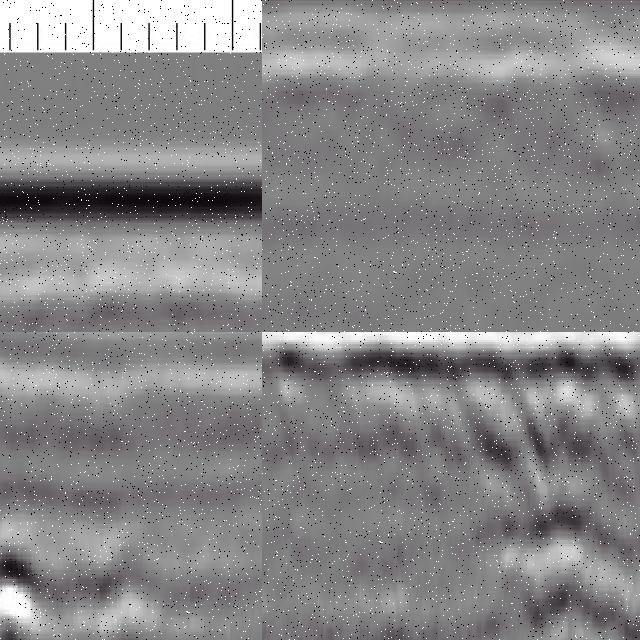crack: (263, 1, 280, 333)
loose: (435, 333, 640, 627), (1, 531, 140, 640)
